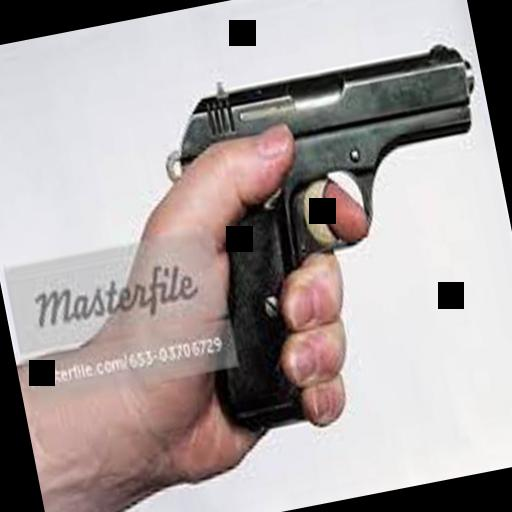Handgun: (155, 26, 512, 441)
